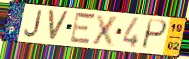4: (121, 15, 142, 51)
E: (68, 10, 97, 47)
J: (23, 9, 43, 38)
P: (140, 18, 169, 51)
V: (47, 9, 70, 43)
X: (90, 13, 121, 49)
